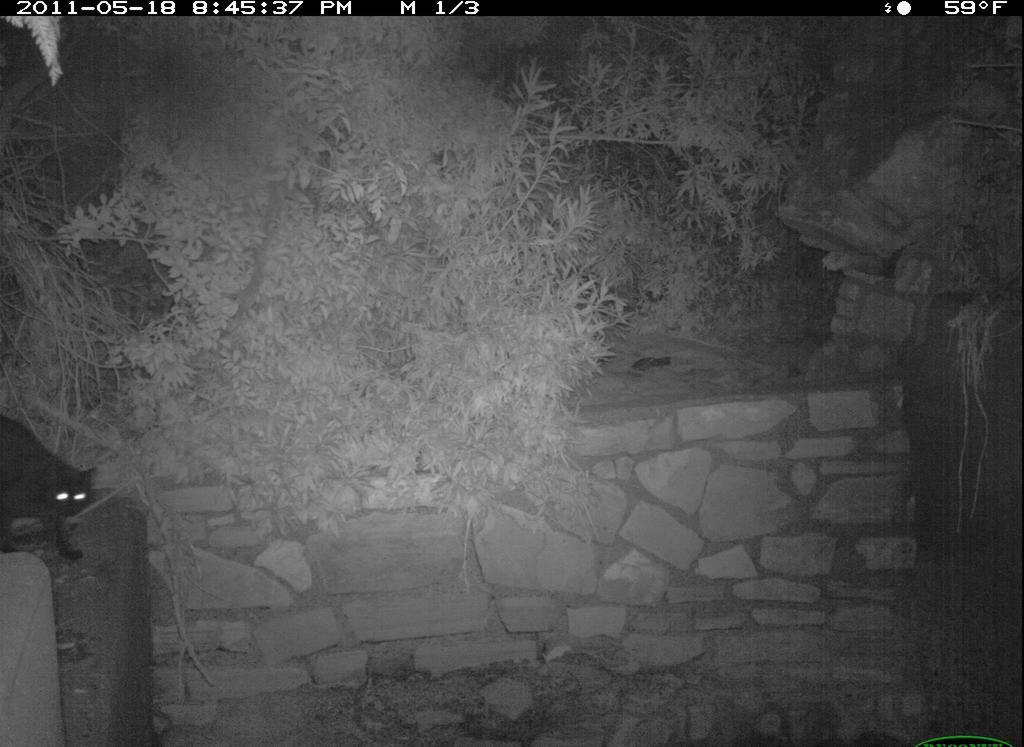cat: (12, 415, 108, 571)
